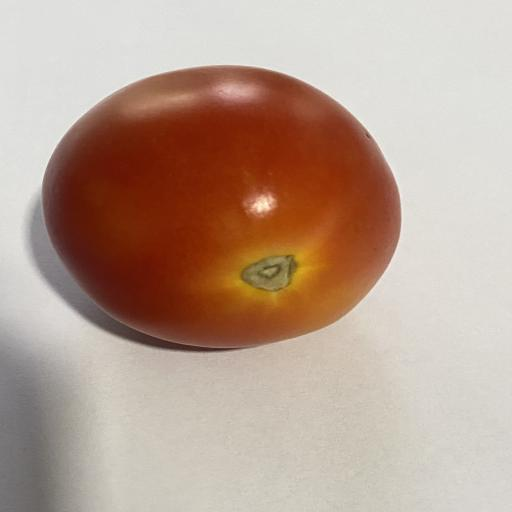ripe: (42, 66, 400, 347)
